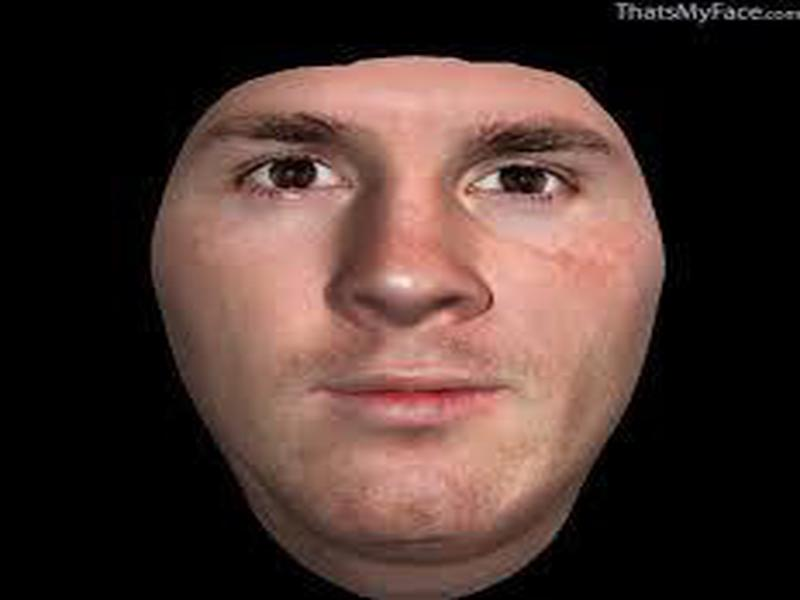without_mask: (145, 55, 668, 599)
